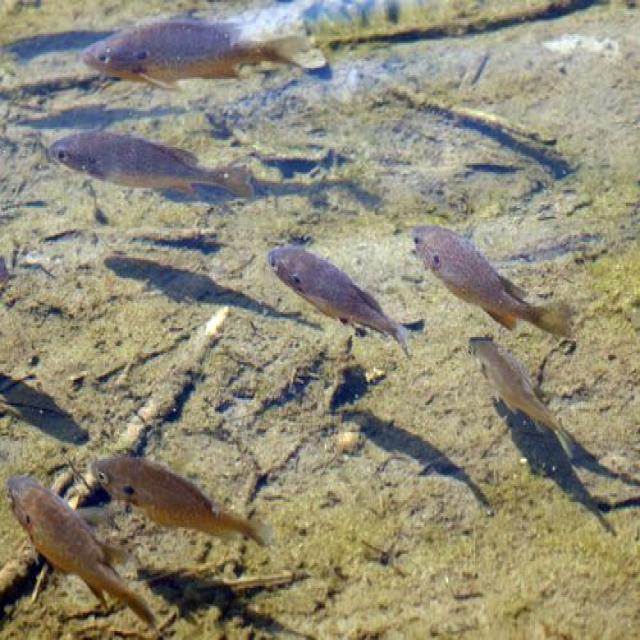Gunes Levregi: (39, 127, 260, 220)
